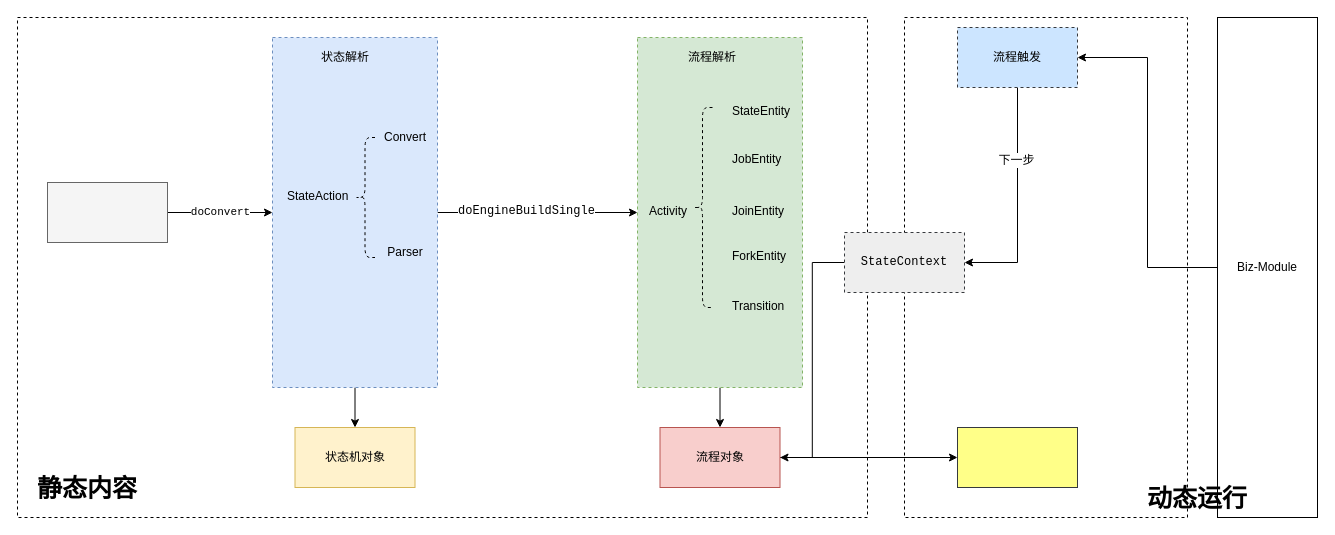
The diagram is 1335 pixels wide and 535 high, and some of its shapes have lost their labels. Each missing label, with the centre of its shape:
"执行引擎对象" goes at (1017,457).
"流程内容XML" goes at (107,212).
